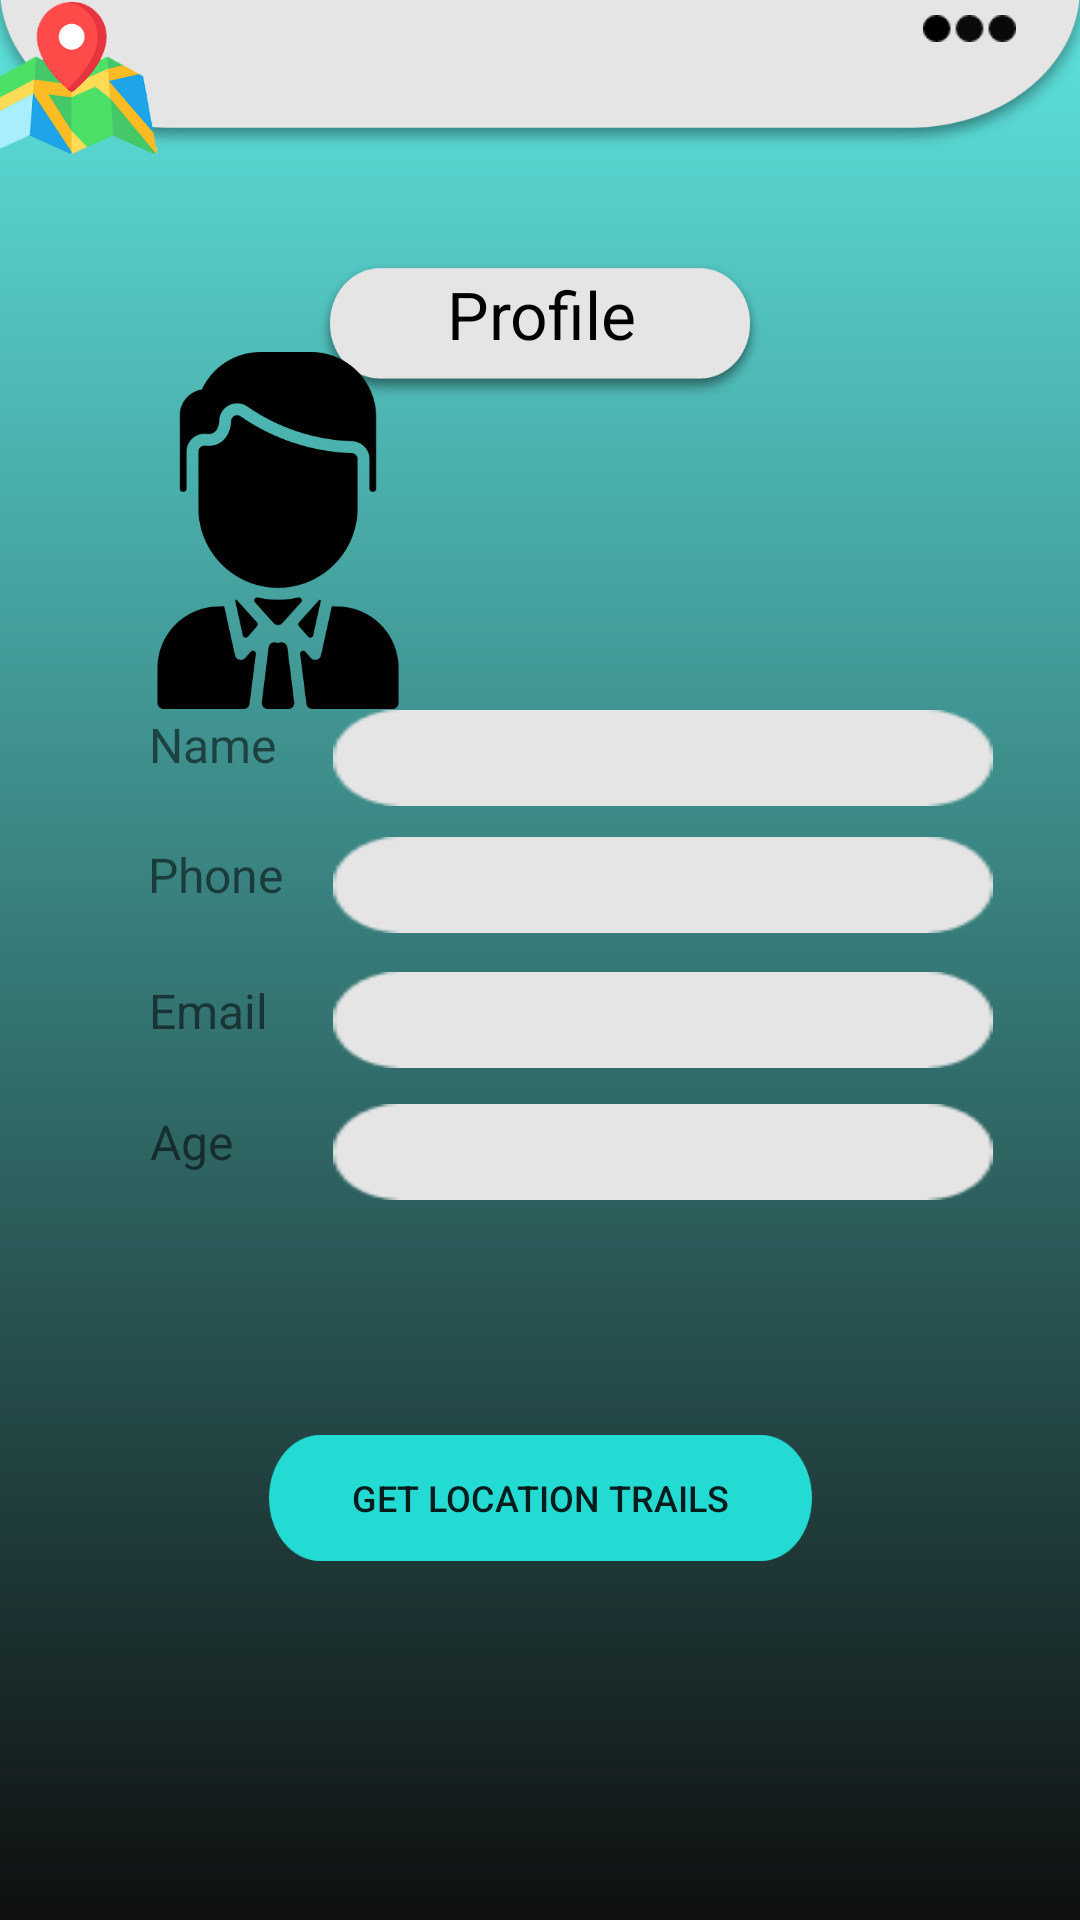

Named icons in this screenshot (1080×1920) and their centers, point (x, y):
menu: point (969, 28)
